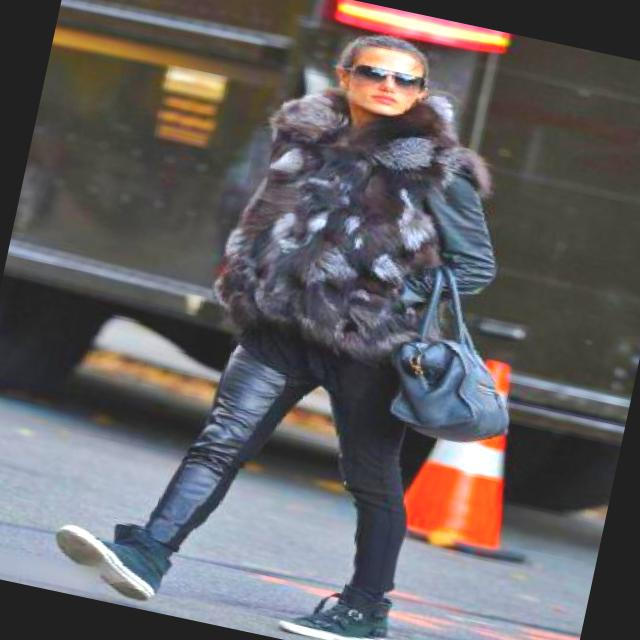Person: (90, 2, 514, 640)
